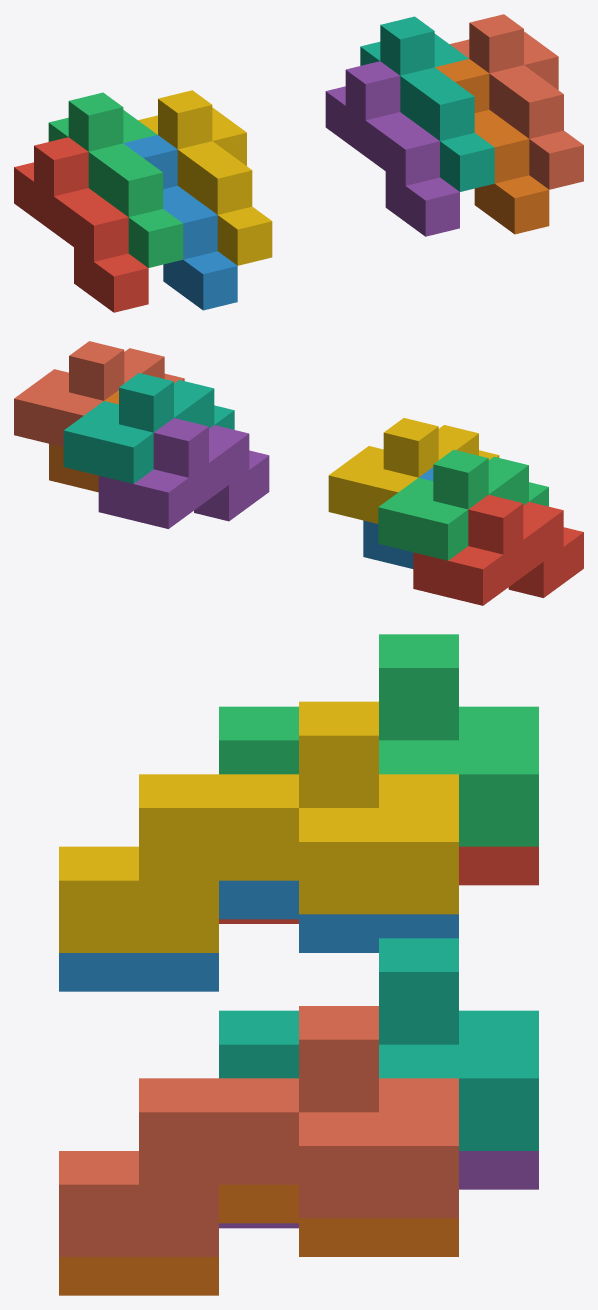
File: tiling.obj
3 renders of one model, top to bottom at view 1: azimuth 30°, elevation 25°; view 2: azimuth 150°, elevation 25°; view 3: azimuth 270°, elevation 25°, orthographic. The views are drawn at different scales.
Parts seen in each view (by area): view 1: copy_1_domain_5, copy_1_domain_1, copy_1_domain_4, copy_1_domain_8, copy_1_domain_3, copy_1_domain_7, copy_1_domain_6, copy_1_domain_2; view 2: copy_1_domain_5, copy_1_domain_1, copy_1_domain_7, copy_1_domain_3, copy_1_domain_4, copy_1_domain_8, copy_1_domain_2, copy_1_domain_6; view 3: copy_1_domain_4, copy_1_domain_8, copy_1_domain_3, copy_1_domain_7, copy_1_domain_6, copy_1_domain_2, copy_1_domain_1, copy_1_domain_5.
Part boxes in pixels (x1,y1,x2,y2): copy_1_domain_5: (325,61,459,236); copy_1_domain_1: (14,137,148,312); copy_1_domain_4: (138,90,272,265); copy_1_domain_8: (449,14,583,189); copy_1_domain_3: (48,92,183,267); copy_1_domain_7: (360,16,494,191); copy_1_domain_6: (435,59,549,234); copy_1_domain_2: (123,135,237,310); copy_1_domain_5: (98,418,269,528); copy_1_domain_1: (413,494,583,605); copy_1_domain_7: (63,373,234,483); copy_1_domain_3: (378,449,548,560); copy_1_domain_4: (328,418,499,523); copy_1_domain_8: (14,341,184,447); copy_1_domain_2: (363,467,433,568); copy_1_domain_6: (49,390,118,492); copy_1_domain_4: (59,701,458,952); copy_1_domain_8: (59,1006,458,1256); copy_1_domain_3: (219,634,538,846); copy_1_domain_7: (219,938,538,1150); copy_1_domain_6: (59,1184,458,1295); copy_1_domain_2: (59,880,458,991); copy_1_domain_1: (219,846,538,923); copy_1_domain_5: (219,1151,538,1228).
Size of the model in its own units: 14 by 4 by 6.
